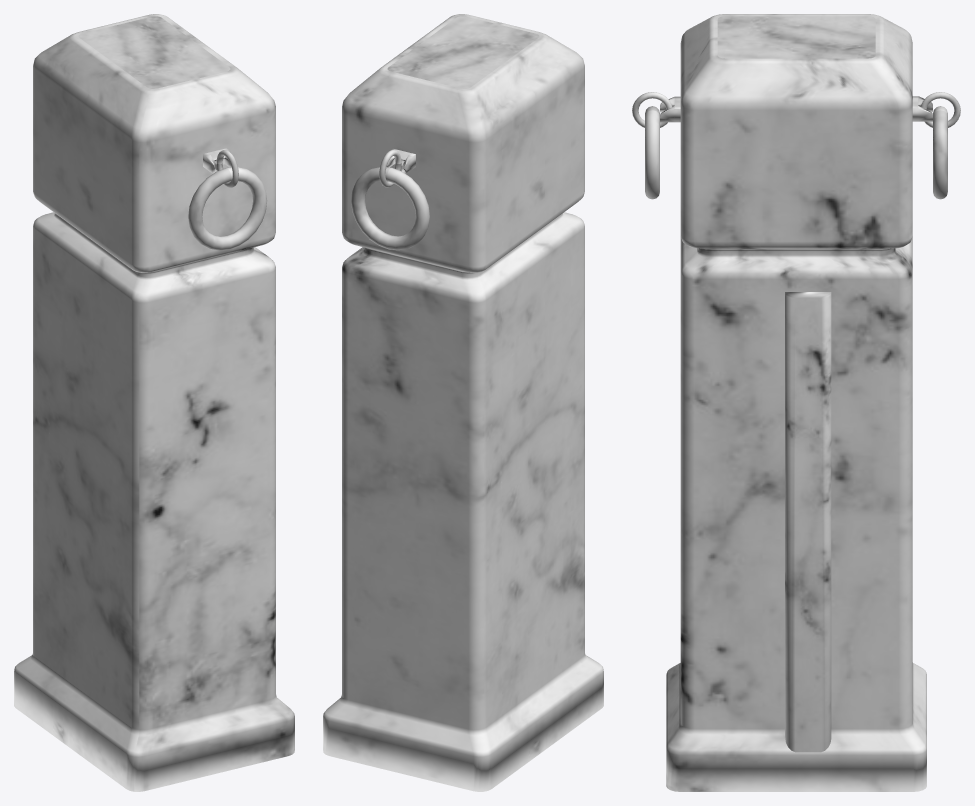
File: cancello_pillar_02.FBX
3 views of the same model, side by side, from view 1: azimuth 30°, elevation 25°; view 2: azimuth 150°, elevation 25°; view 3: azimuth 270°, elevation 25° (orthographic). The views are drawn at different scales.
Parts seen in each view (by area): view 1: cancello_pillar_01; view 2: cancello_pillar_01; view 3: cancello_pillar_01.
Part boxes in pixels (x1=…): cancello_pillar_01: x1=14, y1=14, x2=294, y2=791; cancello_pillar_01: x1=323, y1=14, x2=603, y2=791; cancello_pillar_01: x1=632, y1=14, x2=960, y2=791.
Bounding box in the file's own units: 35 × 56.72 × 135.
